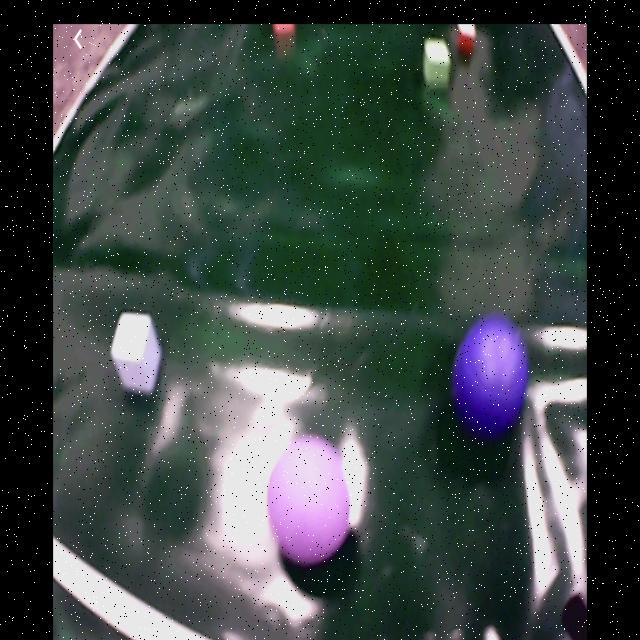ball: (268, 441, 352, 560), (453, 321, 528, 437)
